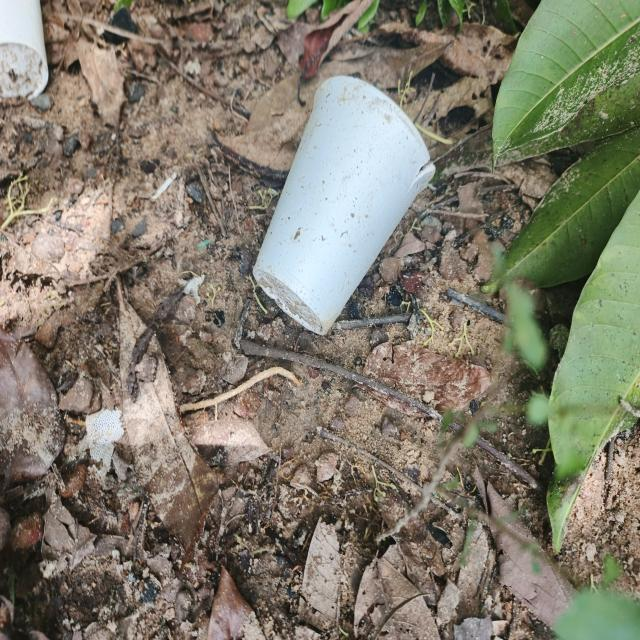plastic: (243, 64, 442, 348), (0, 0, 56, 106)
